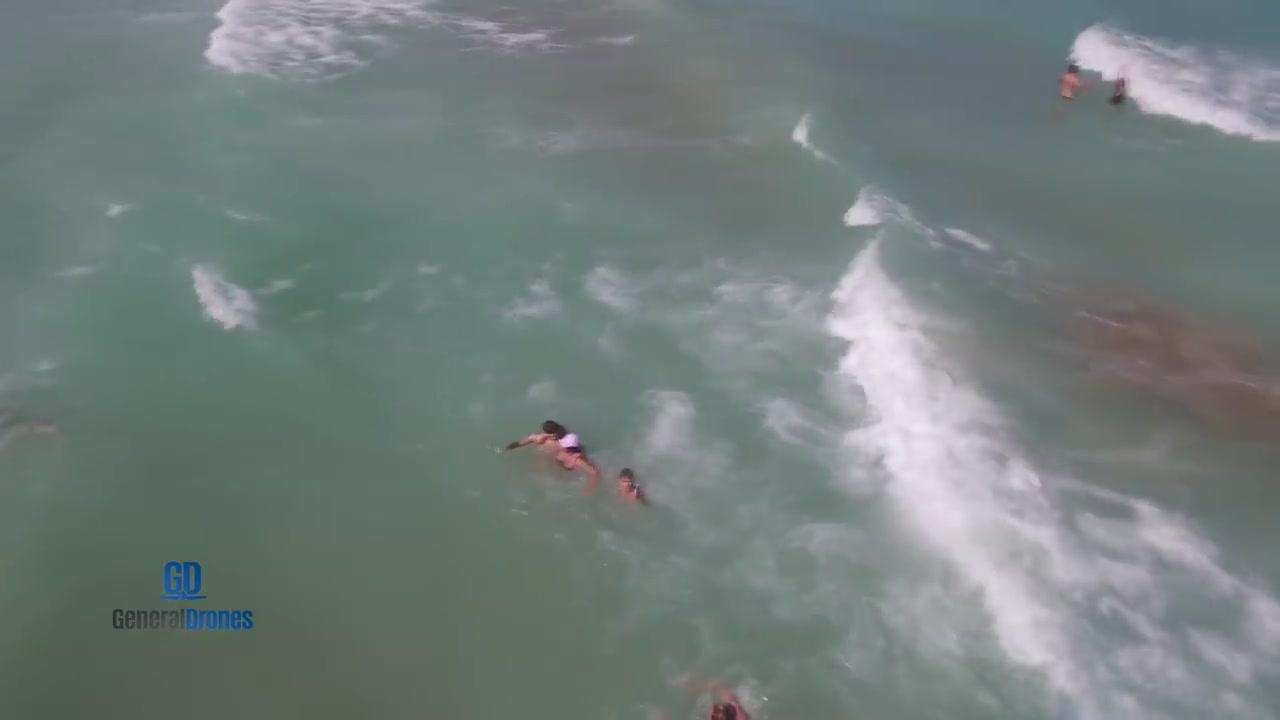human: (493, 416, 609, 498), (675, 664, 754, 720), (605, 456, 655, 503), (525, 406, 567, 448)
